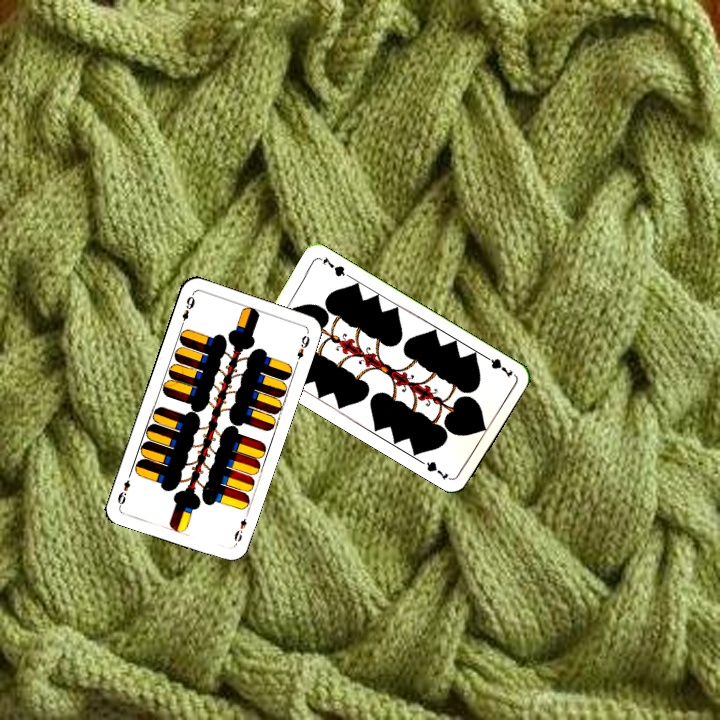E9: (230, 509, 251, 548), (176, 292, 197, 330)
G7: (479, 351, 516, 380)
